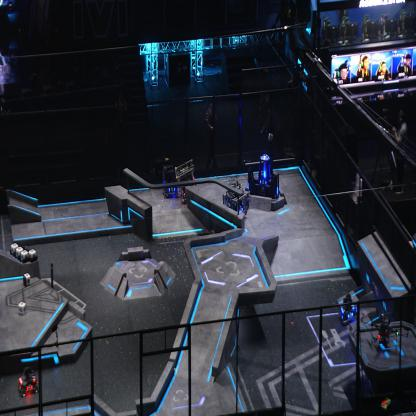car: (222, 180, 250, 218), (174, 159, 198, 203), (16, 364, 40, 396), (340, 293, 360, 325), (161, 164, 179, 199)
